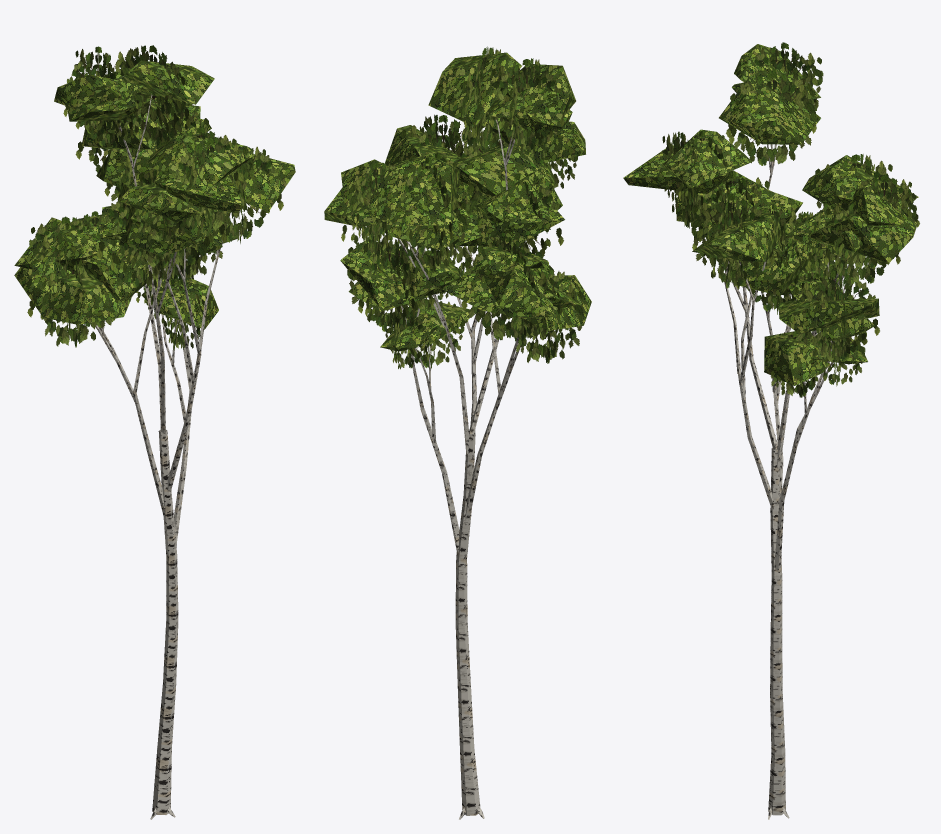
The model's file is TREE_Birch_01.fbx.
The picture shows the model from 3 angles, left to right: view 1: azimuth 30°, elevation 25°; view 2: azimuth 150°, elevation 25°; view 3: azimuth 270°, elevation 25°; orthographic projection. The views are drawn at different scales.
Visible parts, largest first — view 1: TREE_Birch_01; view 2: TREE_Birch_01; view 3: TREE_Birch_01.
Part boxes in pixels (left/top/right/bottom): TREE_Birch_01: left=14, top=45, right=295, bottom=819; TREE_Birch_01: left=324, top=46, right=591, bottom=819; TREE_Birch_01: left=623, top=42, right=919, bottom=819.
Size of the model in its own units: 4.73 by 15.55 by 5.68.
Materials: 3 (3 with a texture image).
